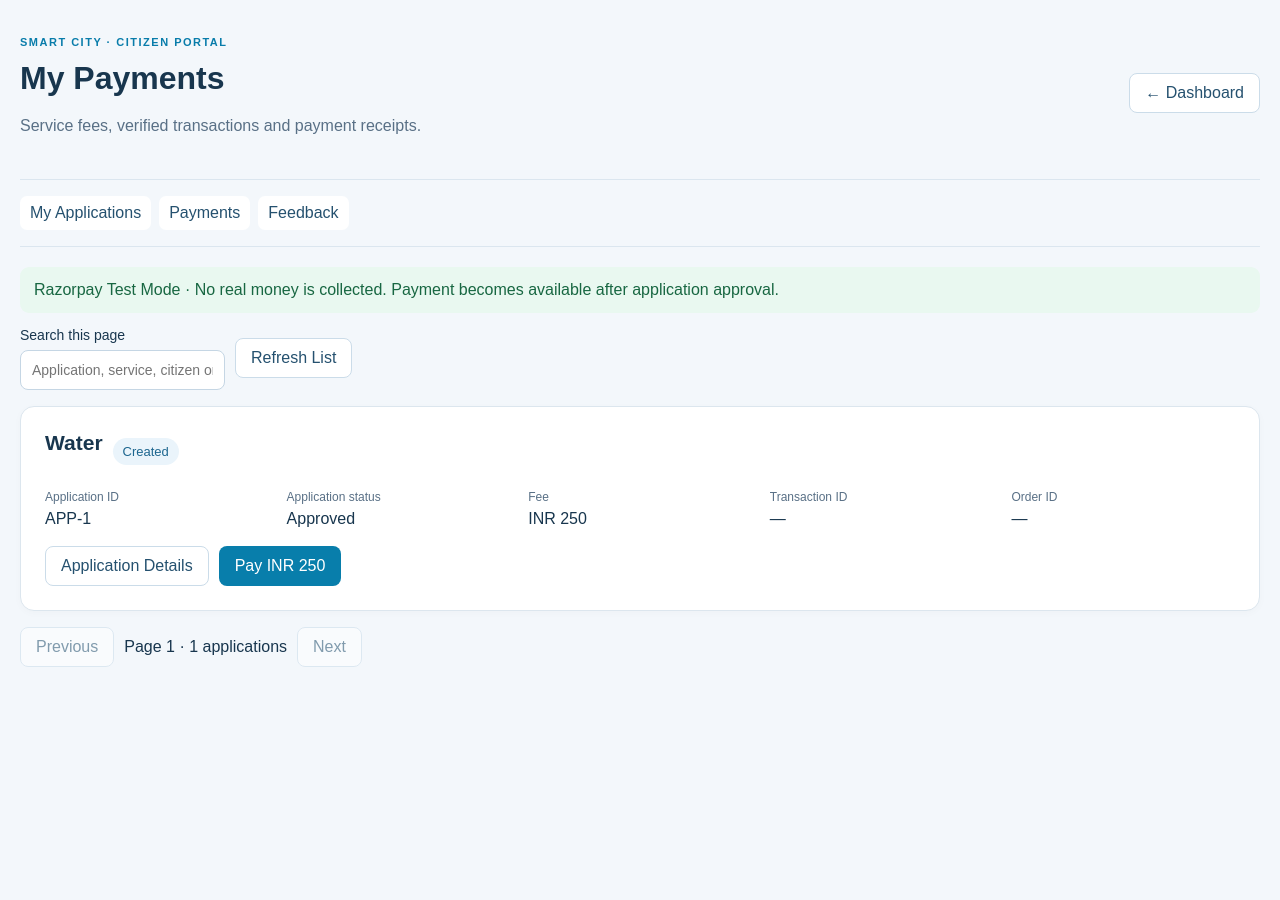
Test case: failed verification is shown without a false success message
Click the button "Pay INR 250" at (280,566), box [219,546,341,586]
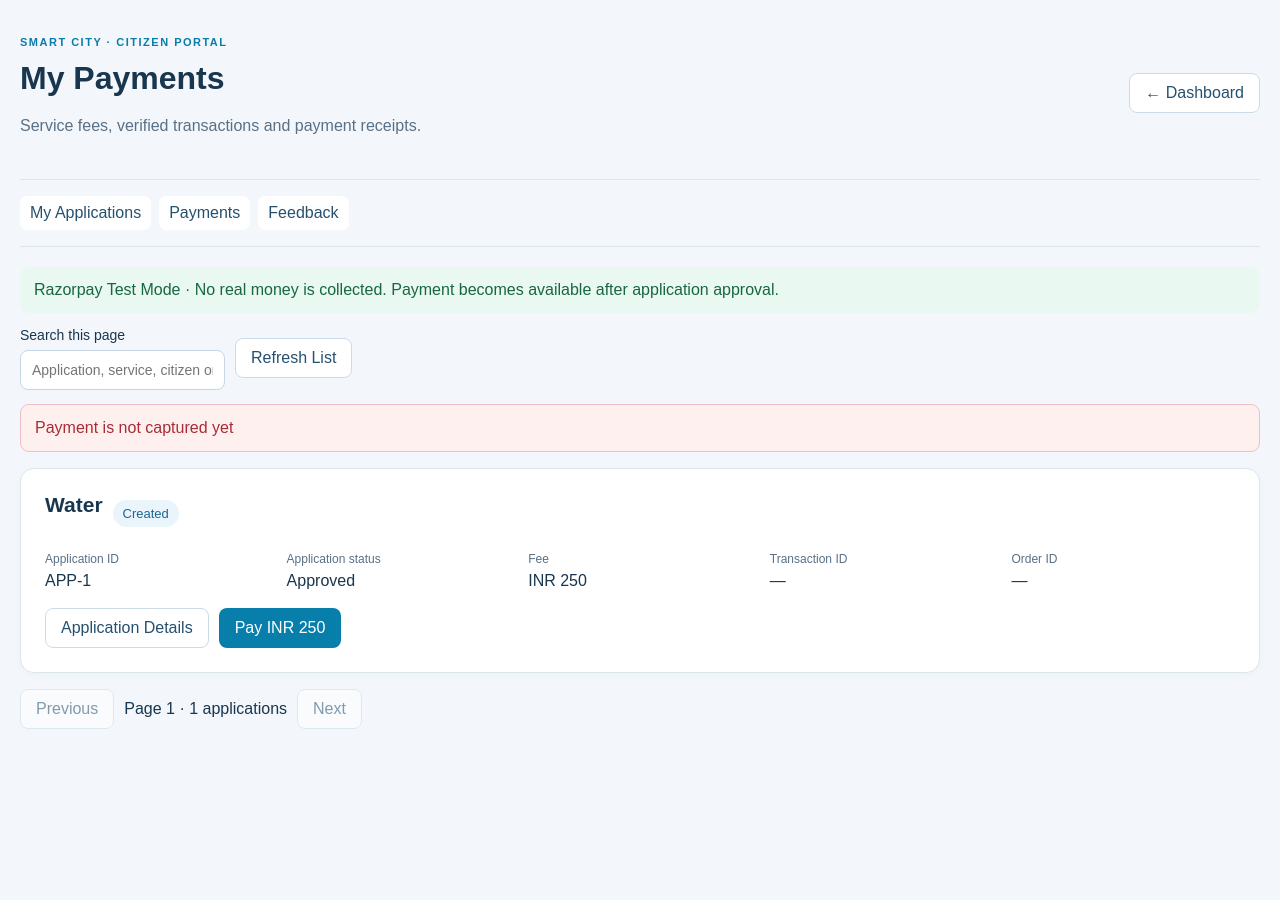
Expected: the message shows "not captured", [35,419,233,436]
